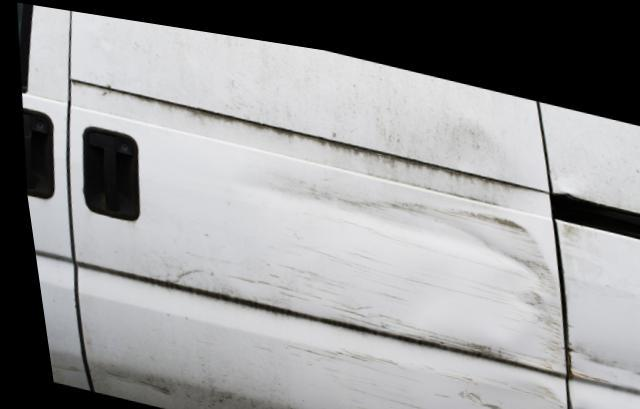dent: (242, 164, 555, 352), (333, 346, 552, 409)
